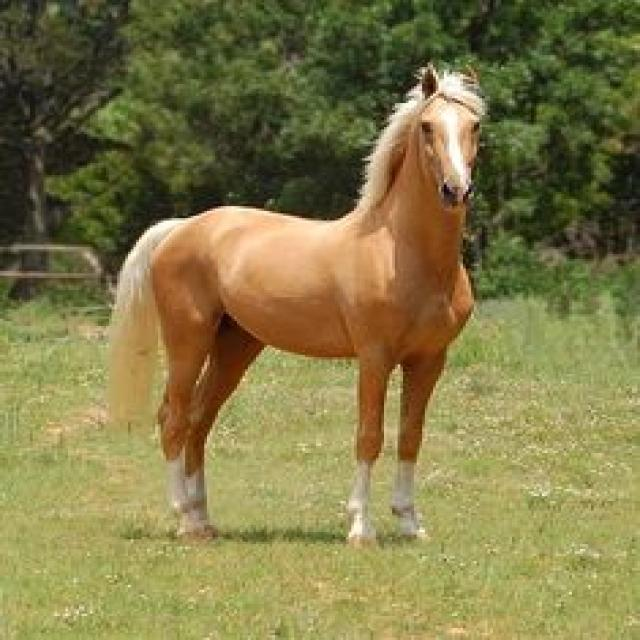Herbivorous: (106, 65, 487, 549)
